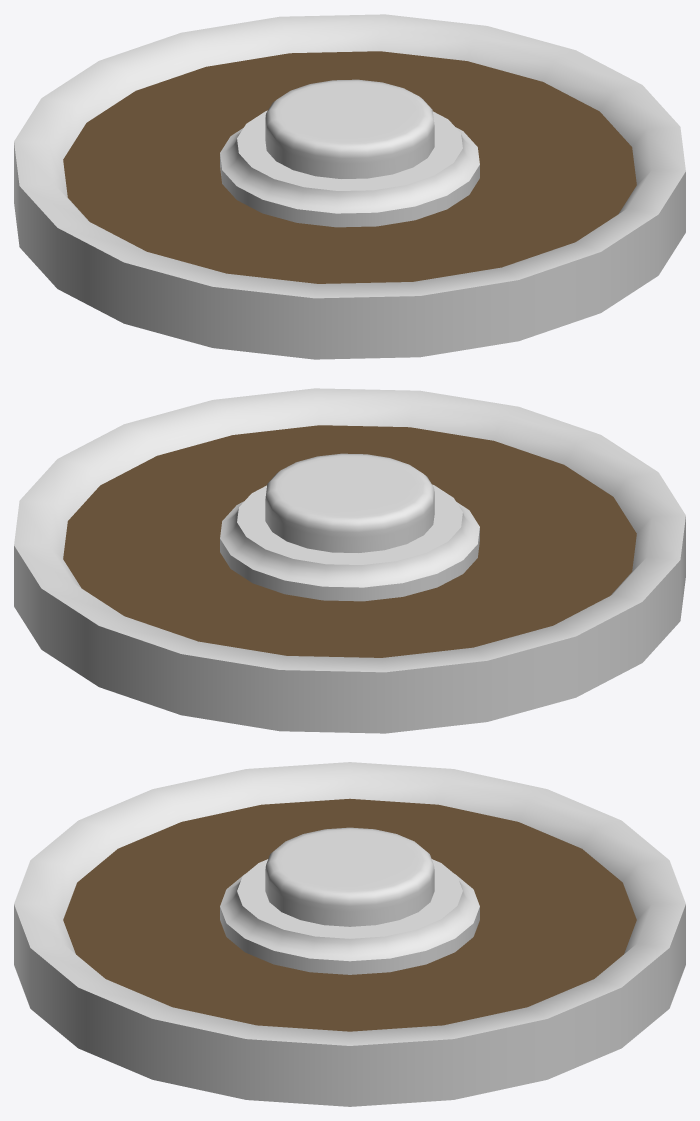
The model's file is round_shield.fbx.
3 renders of one model, top to bottom at view 1: azimuth 30°, elevation 25°; view 2: azimuth 150°, elevation 25°; view 3: azimuth 270°, elevation 25°, orthographic.
Parts seen in each view (by area): view 1: round_shield; view 2: round_shield; view 3: round_shield.
Boxes of the visible parts, x1,y1,x2,y2 form: round_shield: (14,14,685,359); round_shield: (14,388,685,733); round_shield: (14,762,685,1106).
Bounding box in the file's own units: 200 × 34.25 × 200.
